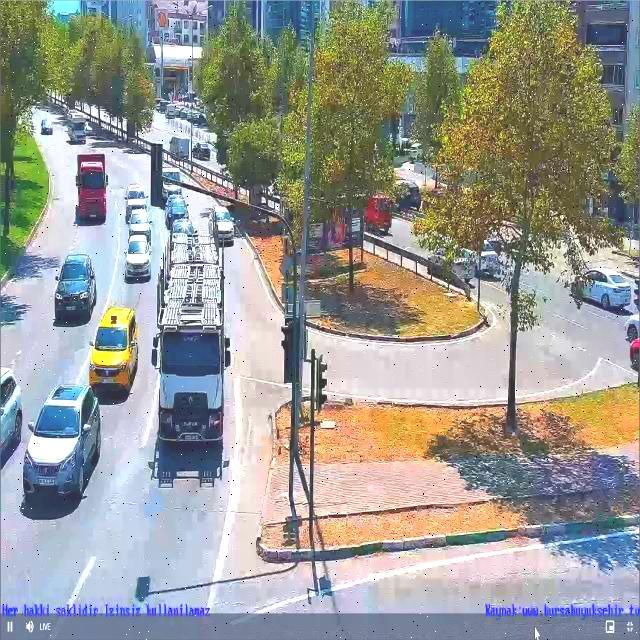bus: (151, 234, 230, 442)
car: (24, 385, 100, 496), (89, 306, 138, 391), (55, 254, 96, 321), (584, 270, 630, 309), (125, 235, 151, 281), (211, 206, 234, 246), (126, 185, 148, 222), (165, 196, 189, 228), (129, 209, 151, 242), (69, 116, 86, 143)
lorry: (76, 154, 105, 222)
